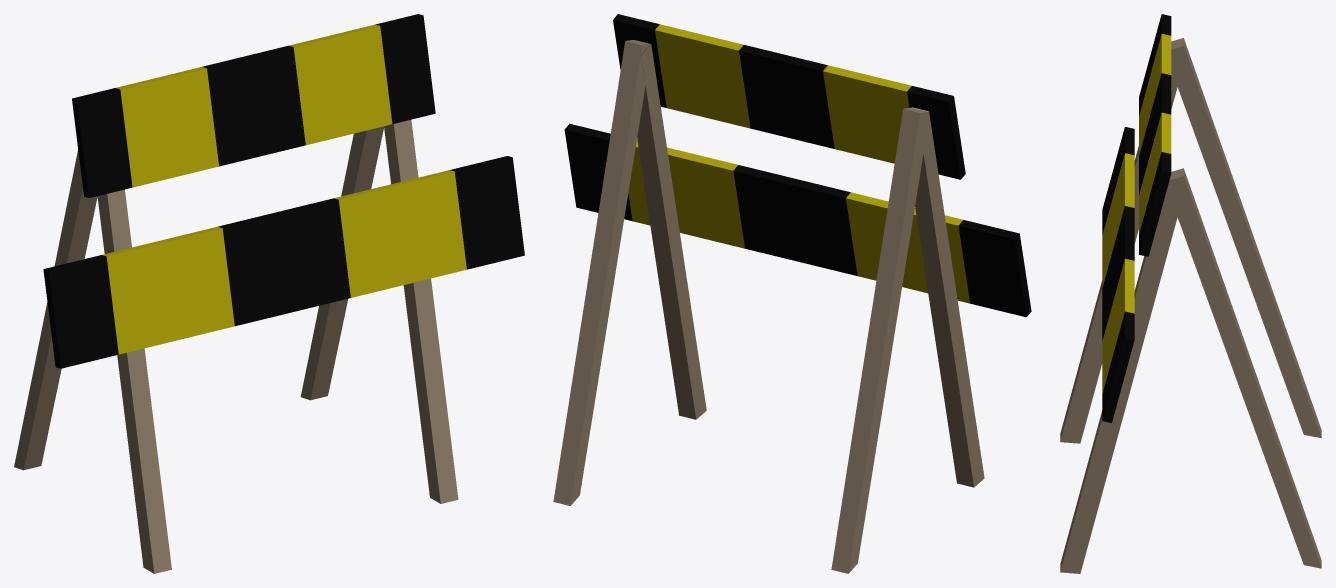
The model's file is Prop_ConstructionCade_Mod_01.fbx.
The picture shows the model from 3 angles, left to right: view 1: azimuth 30°, elevation 25°; view 2: azimuth 150°, elevation 25°; view 3: azimuth 270°, elevation 25°; orthographic projection. The views are drawn at different scales.
Visible parts, largest first — view 1: barricade; view 2: barricade; view 3: barricade.
Part boxes in pixels (<box>): barricade: <box>14,14,524,573</box>; barricade: <box>553,14,1031,573</box>; barricade: <box>1060,14,1321,573</box>.
Size of the model in its own units: 2.05 by 1.86 by 1.07.
